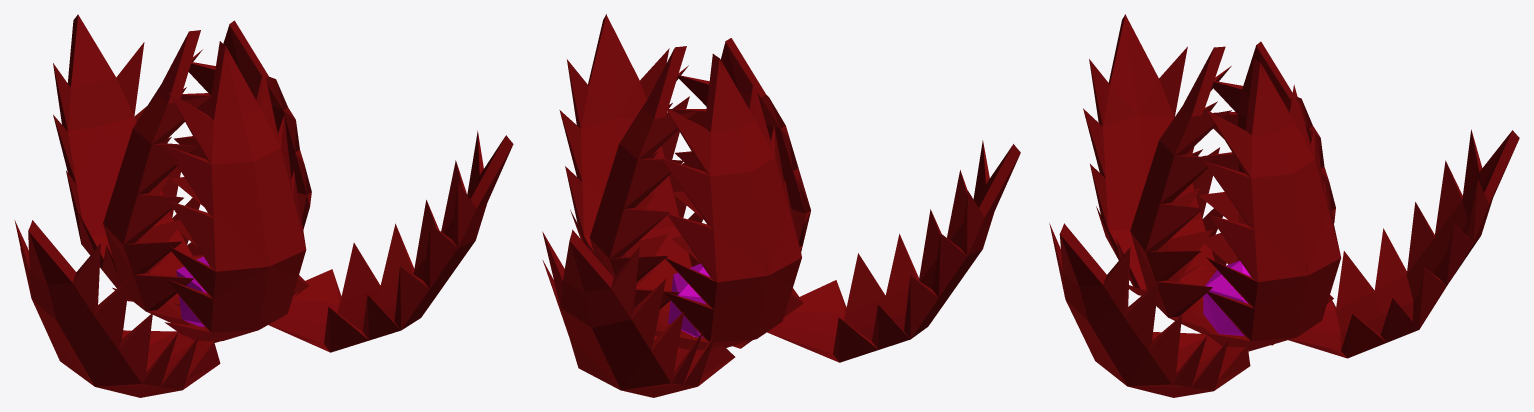
File: Factory_Bush.fbx
3 views of the same model, side by side, from view 1: azimuth 30°, elevation 25°; view 2: azimuth 150°, elevation 25°; view 3: azimuth 270°, elevation 25° (orthographic). The views are drawn at different scales.
Parts seen in each view (by area): view 1: Factory Bush; view 2: Factory Bush; view 3: Factory Bush.
Boxes of the visible parts, x1,y1,x2,y2 form: Factory Bush: (14,14,513,397); Factory Bush: (542,14,1020,397); Factory Bush: (1049,14,1519,397).
Bounding box in the file's own units: 849 × 556 × 786.
